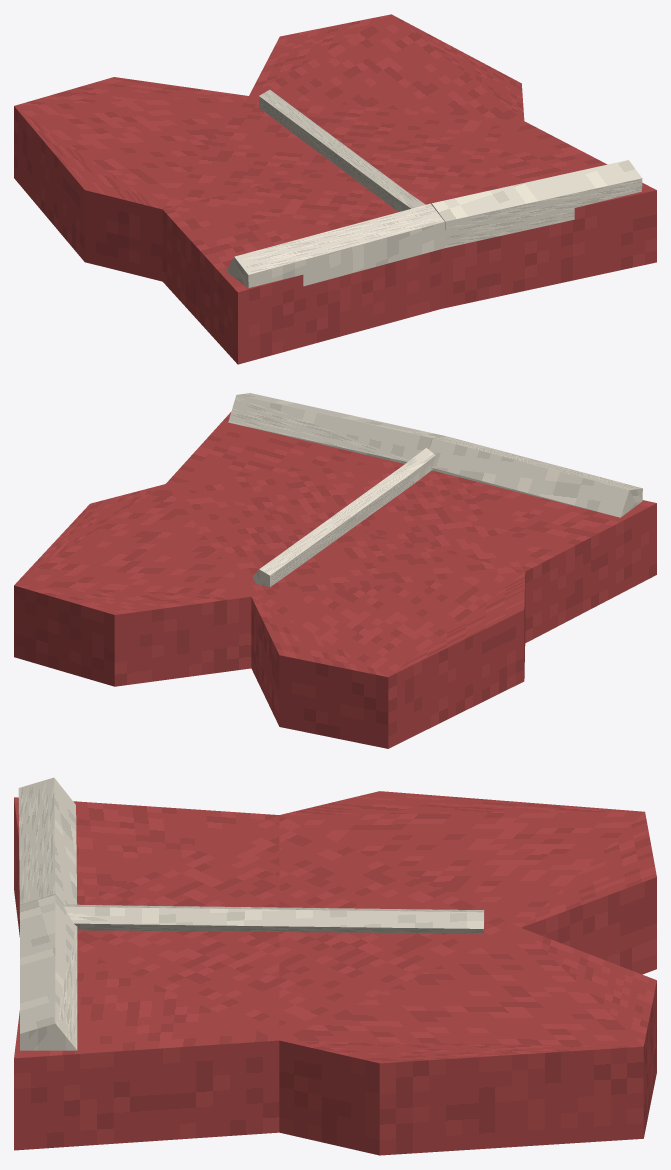
Rendered from santa_jacket_short.glb.
The picture shows the model from 3 angles, top to bottom: view 1: azimuth 30°, elevation 25°; view 2: azimuth 150°, elevation 25°; view 3: azimuth 270°, elevation 25°; orthographic projection. The views are drawn at different scales.
Parts seen in each view (by area): view 1: block_garment body, block_hem trim 0, block_hem trim 1, block_front closure 0; view 2: block_garment body, block_hem trim 0, block_hem trim 1, block_front closure 0, block_front closure 1; view 3: block_garment body, block_front closure 0, block_hem trim 1, block_hem trim 0, block_front closure 1.
Part boxes in pixels (x1,y1,x2,y2): block_garment body: (14,14,656,364); block_hem trim 0: (226,203,444,287); block_hem trim 1: (431,160,642,247); block_front closure 0: (259,90,406,209); block_garment body: (14,412,656,748); block_hem trim 0: (429,436,642,517); block_hem trim 1: (228,393,445,463); block_front closure 0: (252,466,413,586); block_front closure 1: (403,448,435,483); block_garment body: (14,791,656,1155); block_front closure 0: (124,905,484,933); block_hem trim 1: (20,895,77,1050); block_hem trim 0: (18,777,77,918); block_front closure 1: (64,904,124,930).
Size of the model in its own units: 0.5909 by 0.1269 by 0.5897.
Materials: 1 (1 with a texture image).
